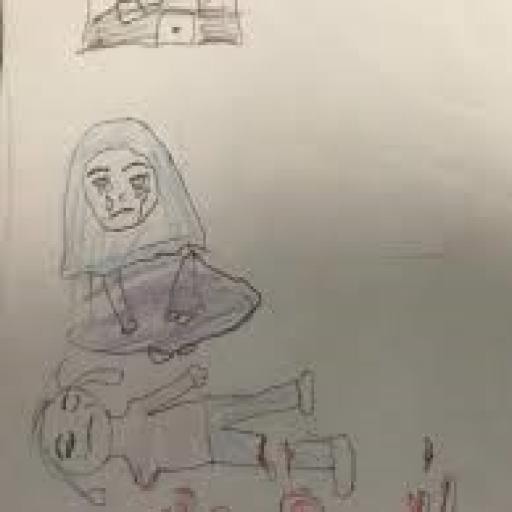person: (49, 114, 269, 361), (28, 362, 382, 512)
